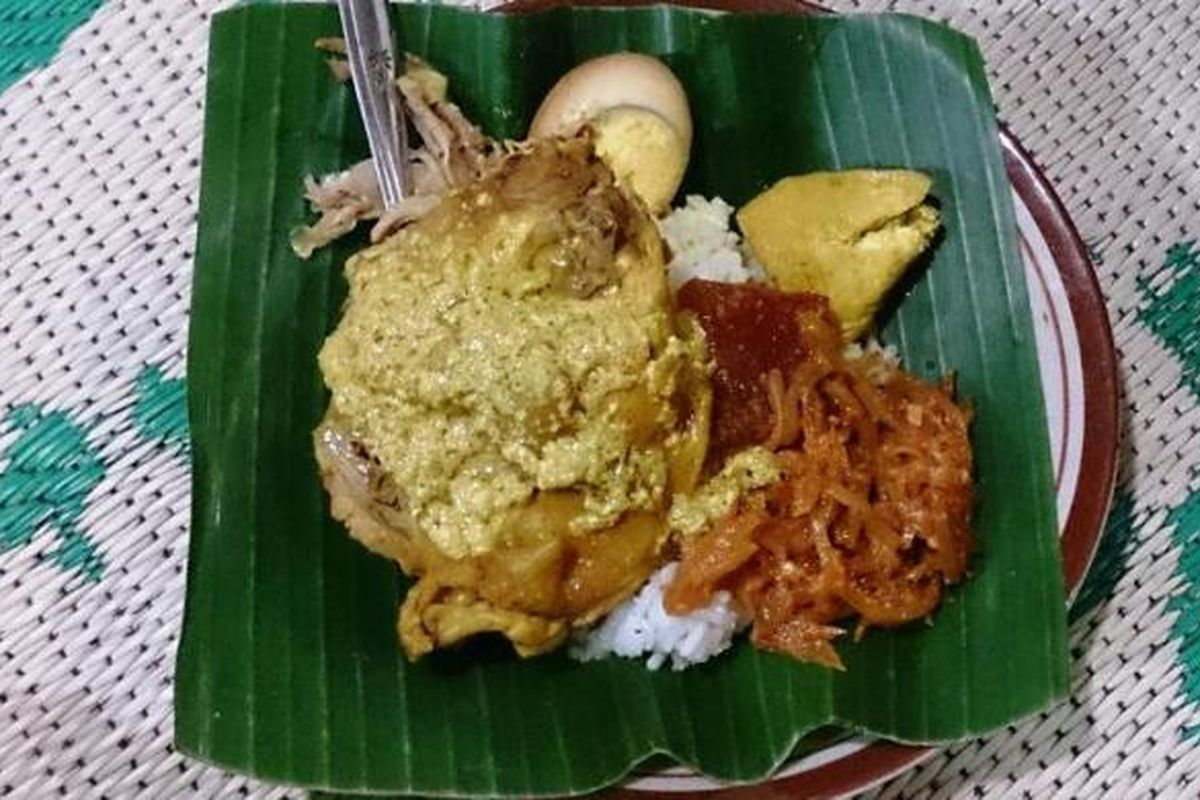buah_sayur_lainnya: (780, 388, 957, 549)
daging: (385, 256, 645, 546)
makanan_berpati: (630, 616, 710, 656)
telur: (580, 83, 687, 167)
